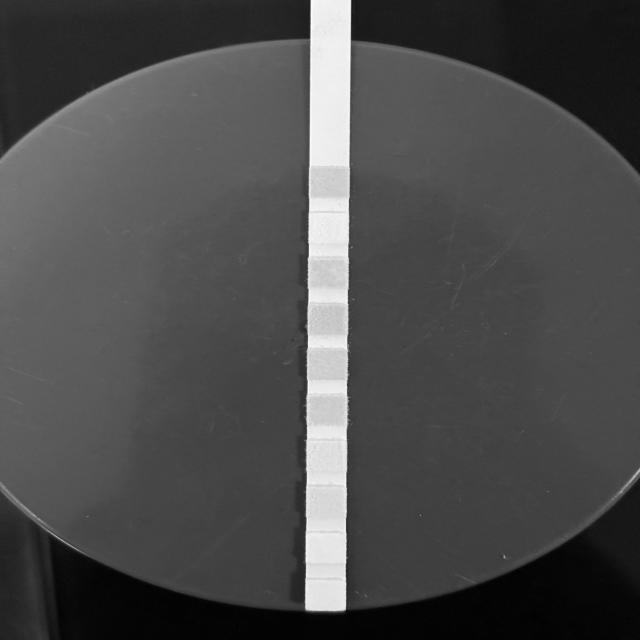Bilirubin: (310, 214, 348, 243)
Blood: (308, 351, 348, 378)
Glucose: (311, 167, 348, 197)
Ketone: (308, 260, 347, 288)
Leukocytes: (307, 580, 344, 610)
Nitrite: (306, 534, 345, 562)
Protein: (309, 442, 346, 471)
SpGravity: (309, 306, 346, 334)
Urobilinogen: (307, 488, 345, 516)
background: (0, 0, 640, 640)
pH: (308, 397, 347, 425)
strip: (308, 21, 350, 611)
